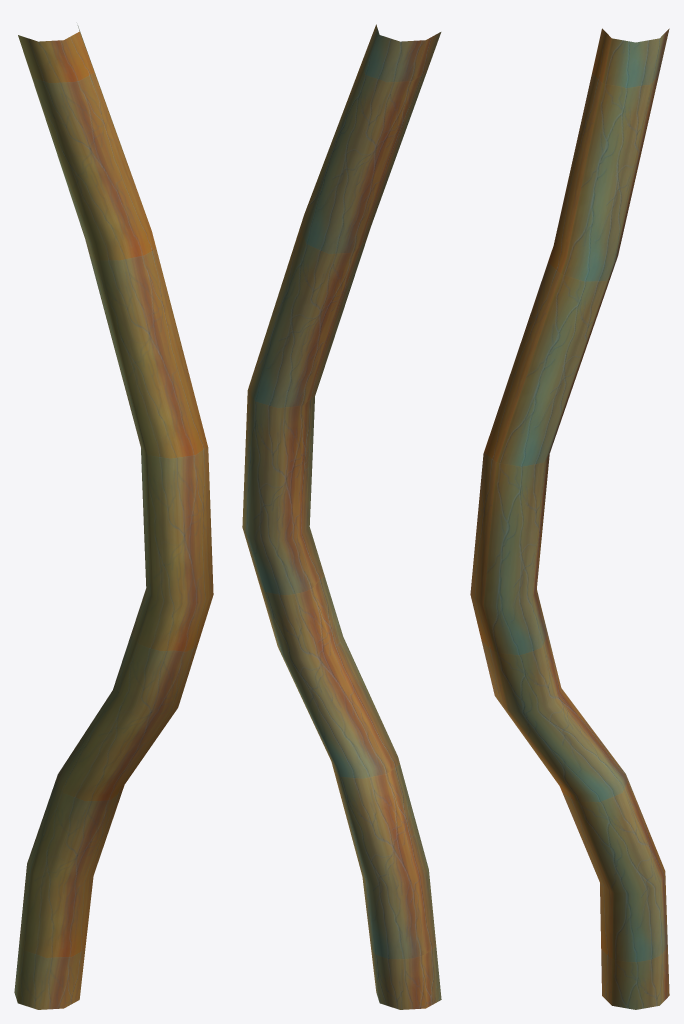
Rendered from pipes03_single01c.glb.
3 renders of one model, left to right at view 1: azimuth 30°, elevation 25°; view 2: azimuth 210°, elevation 25°; view 3: azimuth 270°, elevation 25°, orthographic.
Visible parts, largest first — view 1: pipes03_single01c; view 2: pipes03_single01c; view 3: pipes03_single01c.
Part boxes in pixels (<box>): pipes03_single01c: <box>14,25,213,1009</box>; pipes03_single01c: <box>242,24,441,1009</box>; pipes03_single01c: <box>470,28,669,1009</box>.
Size of the model in its own units: 2.66 by 19.51 by 3.64.
Materials: 1 (1 with a texture image).
